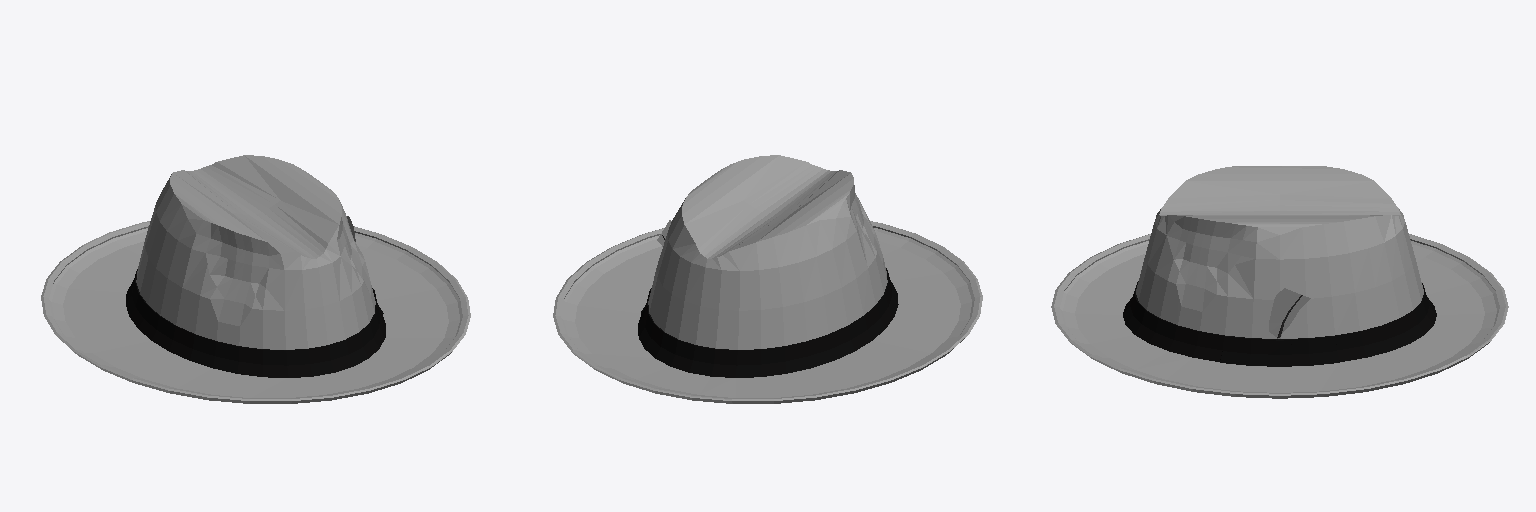
File: fedora_darkgreen_hat.obj
3 renders of one model, left to right at view 1: azimuth 30°, elevation 25°; view 2: azimuth 150°, elevation 25°; view 3: azimuth 270°, elevation 25°, orthographic.
Visible parts, largest first — view 1: Circle.001; view 2: Circle.001; view 3: Circle.001.
Boxes of the visible parts, <box> form: Circle.001: <box>41,155,470,403</box>; Circle.001: <box>553,155,982,403</box>; Circle.001: <box>1051,166,1508,398</box>.
Size of the model in its own units: 0.1268 by 0.0406 by 0.1378.